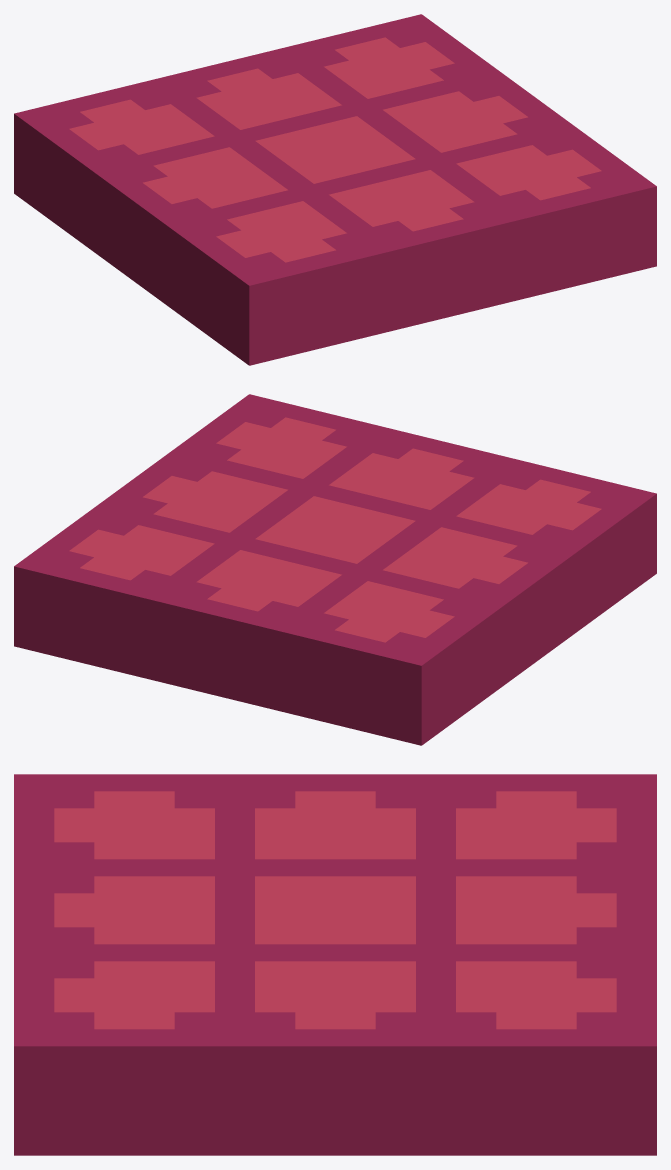
File: roof_flat.obj
3 views of the same model, one above another, from view 1: azimuth 30°, elevation 25°; view 2: azimuth 150°, elevation 25°; view 3: azimuth 270°, elevation 25° (orthographic). The views are drawn at different scales.
Visible parts, largest first — view 1: roof_flat; view 2: roof_flat; view 3: roof_flat.
Part boxes in pixels (x1,y1,x2,y2): roof_flat: (14,14,656,365); roof_flat: (14,394,656,745); roof_flat: (14,774,656,1155).
Bounding box in the file's own units: 9.29 × 1.74 × 9.29.
Materials: 1 (1 with a texture image).
